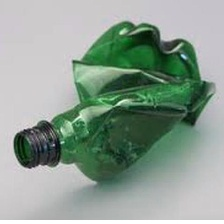bottle: (11, 16, 217, 193)
